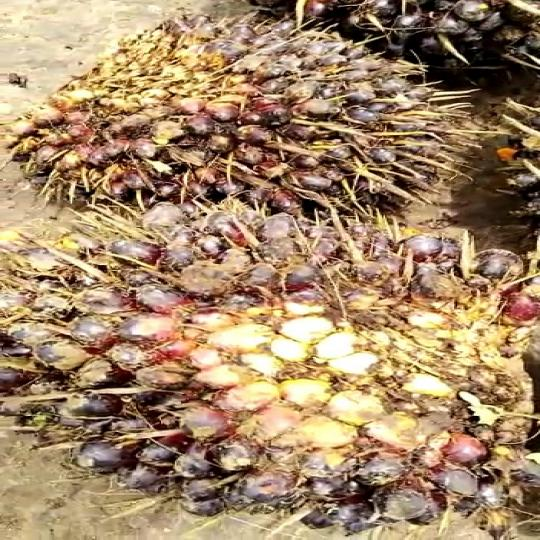mentah: (0, 205, 540, 527), (13, 4, 463, 224)
